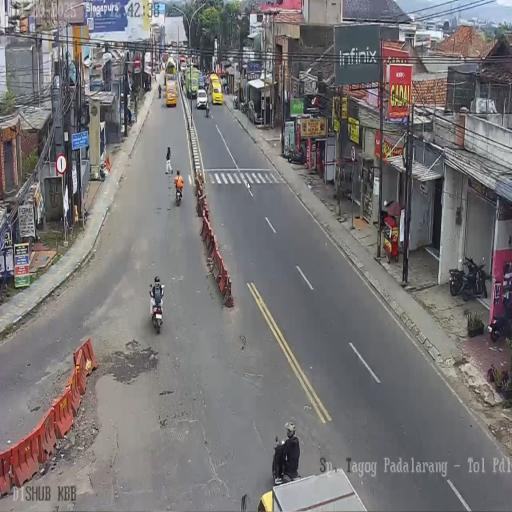3: (185, 66, 199, 100), (165, 56, 176, 85), (179, 56, 187, 72)
car: (209, 71, 223, 106), (196, 88, 208, 110), (198, 74, 205, 89)
truck: (460, 253, 488, 300), (488, 301, 512, 342), (149, 285, 165, 333), (449, 268, 465, 296), (285, 145, 305, 165), (174, 180, 183, 206), (240, 98, 249, 114), (204, 104, 210, 118), (233, 94, 238, 109), (180, 72, 184, 88), (158, 85, 162, 98), (154, 73, 156, 82)
